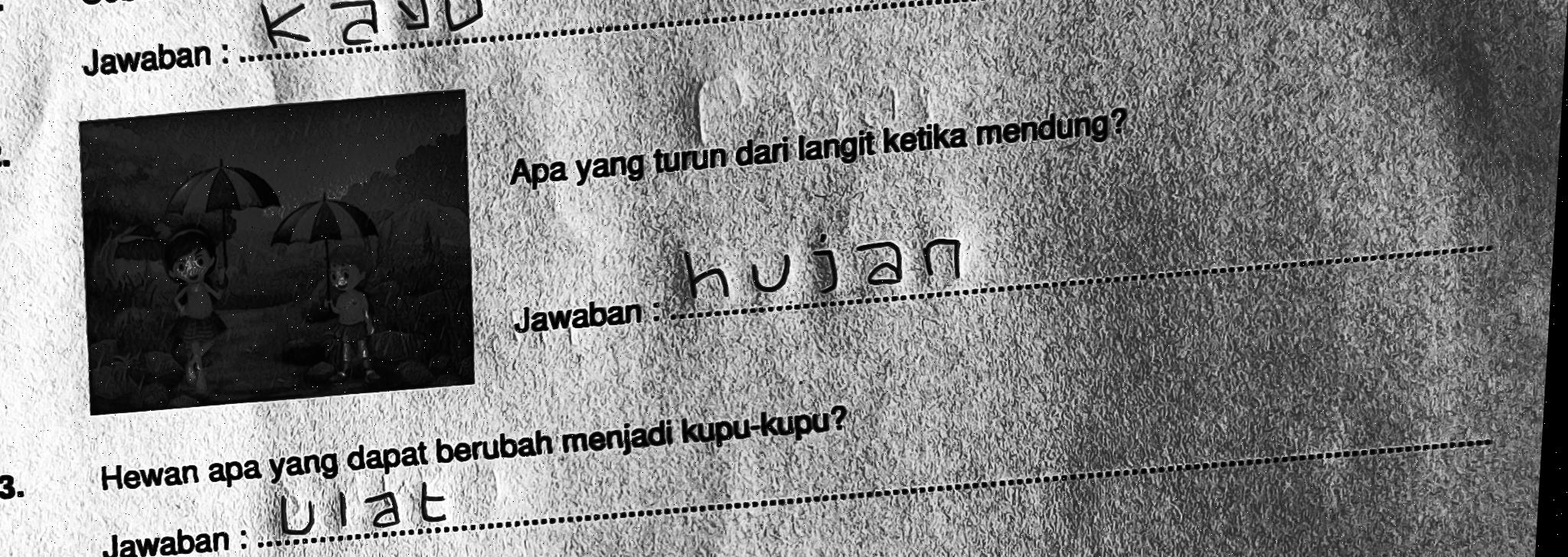jawaban: (672, 207, 972, 313)
